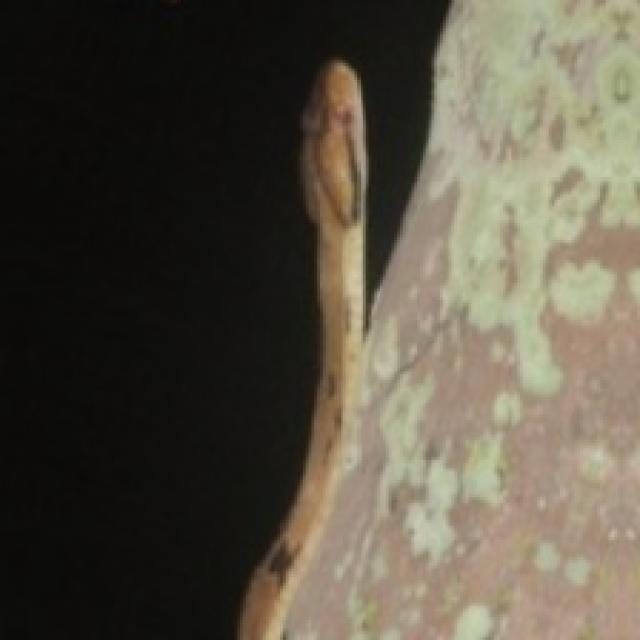dog-toothed cat snake: (240, 60, 366, 637)
